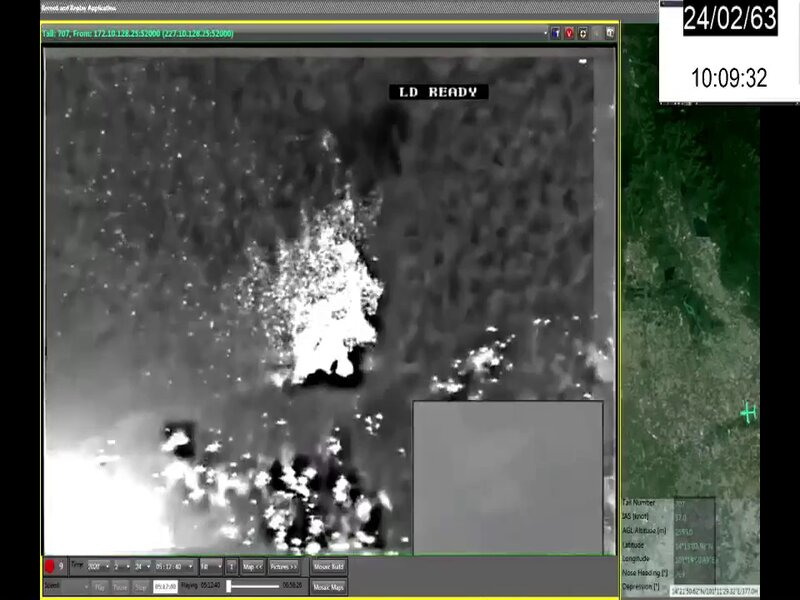Fire: (258, 197, 385, 389)
